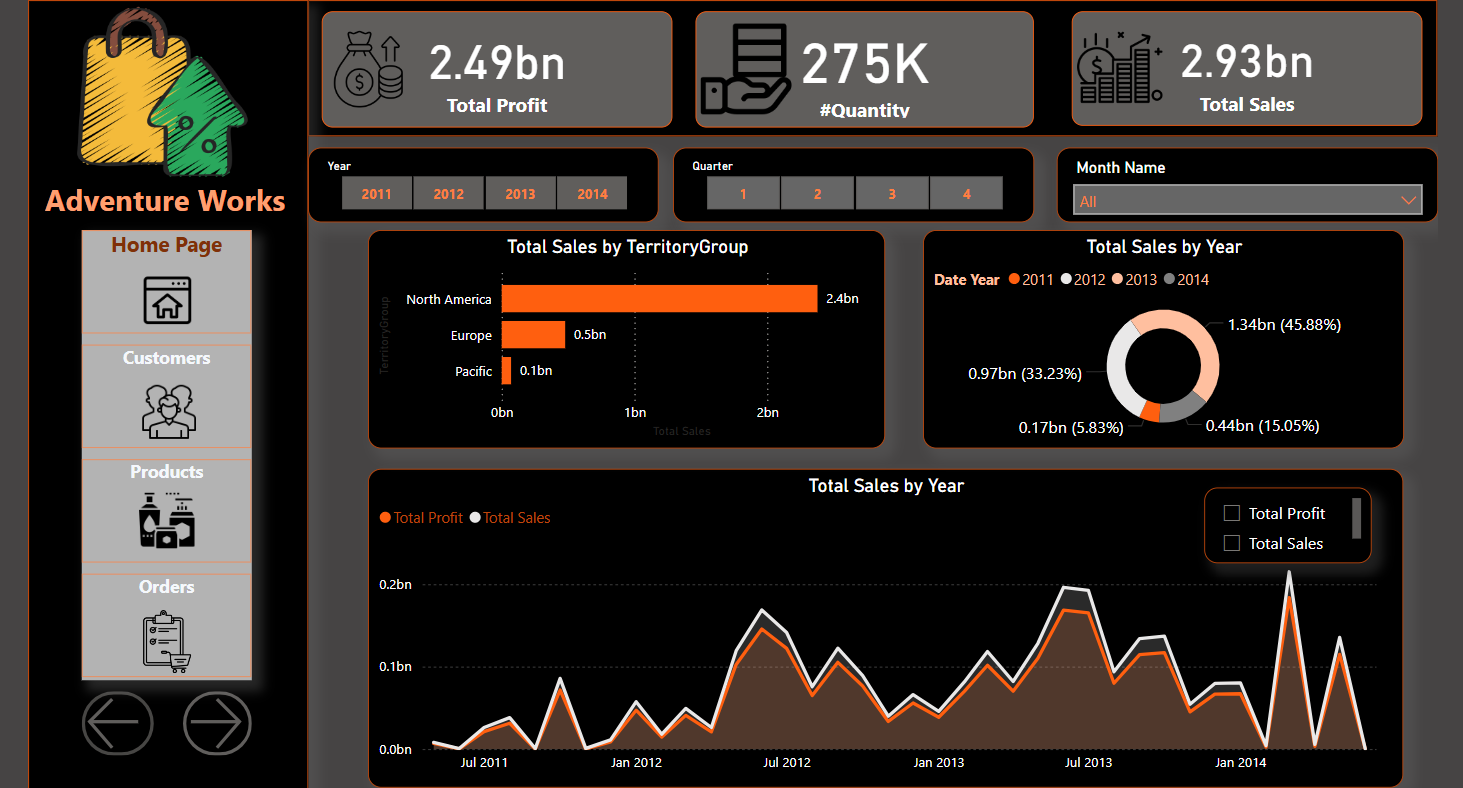

The dashboard page shown, as its layout file describes it:
{"tool":"powerbi","page":{"name":"Home Page","canvas":[1280,720],"ordinal":0},"visuals":[{"type":"shape","box":[254.6,0,1025.4,123.8],"z":0},{"type":"pageNavigator","box":[48.7,208.7,154.4,409],"z":0,"group":"g1"},{"type":"shape","box":[0,0,254.6,719.3],"z":1000},{"type":"image","box":[53.6,343.3,149.5,60.1],"z":1000,"group":"g1"},{"type":"card","fields":{"Values":["Dax_Meas.Total Due"]},"box":[947.5,9.7,318.6,104.3],"z":2000},{"type":"image","box":[51.9,246.1,148.7,53.3],"z":2000,"group":"g1"},{"type":"lineChart","title":"Total Sales by Year","fields":{"Y":["Dax_Meas.Total Profit","Dax_Meas.Total Sales"],"Category":["Dim_Date.Date.Variation.Date Hierarchy.Year","Dim_Date.Date.Variation.Date Hierarchy.Quarter","Dim_Date.Date.Variation.Date Hierarchy.Month"]},"box":[308.8,426.2,971.2,288.8],"z":3000},{"type":"image","box":[48.7,442.6,154.4,60.1],"z":3000,"group":"g1"},{"type":"slicer","title":"Year","fields":{"Values":["Dim_Date.Month Name"]},"box":[933.6,133.6,346.4,68.2],"z":4000},{"type":"image","box":[48.7,548.5,154.4,69.3],"z":4000,"group":"g1"},{"type":"card","fields":{"Values":["Dax_Meas.#Quantity"]},"box":[606.6,9.7,307.5,105.7],"z":5000},{"type":"slicer","title":"Year","fields":{"Values":["Dim_Date.Year"]},"box":[254.6,133.6,318.6,68.2],"z":6000},{"type":"card","fields":{"Values":["Dax_Meas.Total Profit"]},"box":[267.1,9.7,318.6,105.7],"z":7000},{"type":"slicer","title":"Year","fields":{"Values":["Dim_Date.Quarter"]},"box":[585.7,133.6,328.3,68.2],"z":8000},{"type":"donutChart","fields":{"Y":["Dax_Meas.Total Sales"],"Category":["Dim_Date.Date.Variation.Date Hierarchy.Year","Dim_Date.Date.Variation.Date Hierarchy.Quarter","Dim_Date.Date.Variation.Date Hierarchy.Month","Dim_Date.Date.Variation.Date Hierarchy.Day"]},"box":[816.2,208.8,463.8,198.8],"z":9000},{"type":"textbox","box":[9.8,158.3,234.4,79.8],"z":10000},{"type":"clusteredBarChart","fields":{"Category":["Dim_Territory.TerritoryGroup"],"Y":["Dax_Meas.Total Sales"]},"box":[308.8,208.8,486.2,198.8],"z":11000},{"type":"image","box":[0,0,244.2,166.9],"z":12000},{"type":"actionButton","box":[140.5,627.5,62.6,58.4],"z":13000},{"type":"actionButton","box":[48.7,627.5,65.4,58.4],"z":14000},{"type":"group","id":"g1","title":"Group 4","box":[48.7,208.7,154.4,409],"z":15000},{"type":"image","box":[947.5,8.3,87.7,105.7],"z":16000},{"type":"image","box":[606.6,9.7,91.8,104.3],"z":17000},{"type":"image","box":[267.5,13.5,82.2,98.2],"z":18000},{"type":"slicer","fields":{"Values":["Parameter.Parameter"]},"box":[1067.5,442.9,152.1,68.7],"z":19000}]}

Visuals, with their boxes on the page's 1280x720 design canvas (x1, y1, x2, y2). These are canvas units, not pixel positions in the 1463x788 screenshot, which may show the page scaled, cropped or inside an application window:
shape: BBox(255, 0, 1280, 124)
pageNavigator: BBox(49, 209, 203, 618)
shape: BBox(0, 0, 255, 719)
image: BBox(54, 343, 203, 403)
card - Dax_Meas.Total Due: BBox(948, 10, 1266, 114)
image: BBox(52, 246, 201, 299)
"Total Sales by Year" lineChart: BBox(309, 426, 1280, 715)
image: BBox(49, 443, 203, 503)
"Year" slicer: BBox(934, 134, 1280, 202)
image: BBox(49, 548, 203, 618)
card - Dax_Meas.#Quantity: BBox(607, 10, 914, 115)
"Year" slicer: BBox(255, 134, 573, 202)
card - Dax_Meas.Total Profit: BBox(267, 10, 586, 115)
"Year" slicer: BBox(586, 134, 914, 202)
donutChart - Dax_Meas.Total Sales x Dim_Date.Date.Variation.Date Hierarchy.Year: BBox(816, 209, 1280, 408)
textbox: BBox(10, 158, 244, 238)
clusteredBarChart - Dim_Territory.TerritoryGroup x Dax_Meas.Total Sales: BBox(309, 209, 795, 408)
image: BBox(0, 0, 244, 167)
actionButton: BBox(140, 628, 203, 686)
actionButton: BBox(49, 628, 114, 686)
"Group 4" group: BBox(49, 209, 203, 618)
image: BBox(948, 8, 1035, 114)
image: BBox(607, 10, 698, 114)
image: BBox(268, 14, 350, 112)
slicer - Parameter.Parameter: BBox(1068, 443, 1220, 512)
